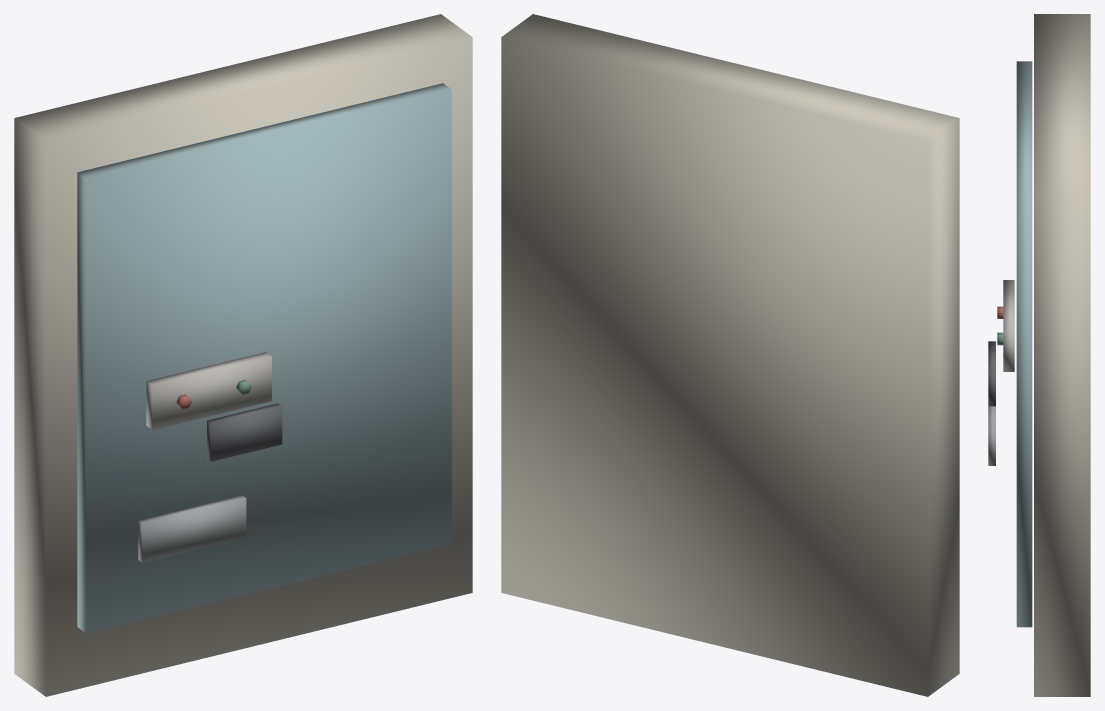
File: x_ray_lightbox__weathered.glb
3 renders of one model, left to right at view 1: azimuth 30°, elevation 25°; view 2: azimuth 150°, elevation 25°; view 3: azimuth 270°, elevation 25°, orthographic. The views are drawn at different scales.
Visible parts, largest first — view 1: world; view 2: world; view 3: world.
Boxes of the visible parts, <box> form: world: <box>14,14,472,696</box>; world: <box>501,14,959,696</box>; world: <box>988,14,1090,696</box>.
Bounding box in the file's own units: 0.7 × 0.8712 × 0.1625.
